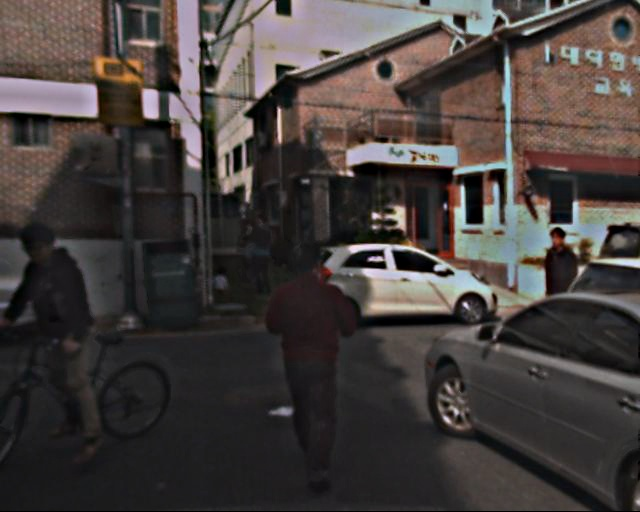person: (261, 239, 364, 494), (13, 220, 116, 466), (532, 225, 594, 373), (247, 212, 281, 293), (239, 217, 267, 279), (213, 264, 232, 304)
